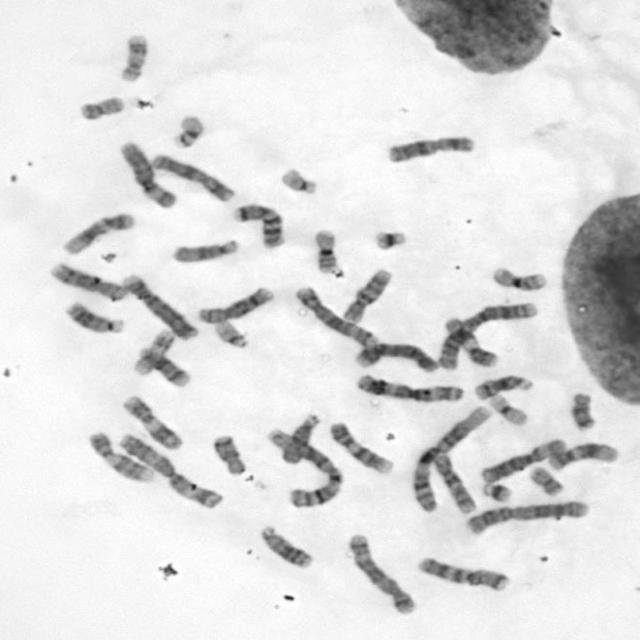A1: (406, 402, 494, 514), (262, 424, 346, 510)
A2: (435, 298, 540, 372), (461, 496, 590, 536)
A3: (112, 429, 226, 510), (351, 371, 466, 404)
B4: (118, 270, 200, 343), (350, 338, 440, 374)
B5: (344, 529, 418, 616), (292, 283, 378, 348)
C10: (337, 265, 394, 324), (430, 450, 477, 516)
C11: (118, 392, 185, 452), (441, 314, 498, 369)
C12: (58, 208, 139, 256), (545, 439, 621, 472)
C6: (117, 137, 178, 210), (476, 436, 570, 483)
C7: (413, 553, 513, 593), (230, 200, 286, 250)
C8: (193, 282, 276, 325), (45, 260, 128, 302)
C9: (84, 428, 156, 484), (326, 418, 395, 475)
D13: (256, 522, 314, 570), (62, 298, 125, 336)
D14: (134, 344, 192, 388), (470, 372, 534, 401)
D15: (277, 409, 323, 466), (168, 236, 240, 265)
E16: (487, 263, 550, 292), (310, 226, 341, 274)
E17: (130, 326, 176, 376), (115, 32, 150, 84)
E18: (209, 431, 250, 476), (566, 389, 598, 432)
F19: (485, 391, 531, 427), (170, 112, 207, 150)
F20: (75, 92, 127, 122), (526, 463, 565, 497)
G21: (370, 226, 408, 252), (477, 479, 515, 504)
G22: (276, 164, 319, 196), (211, 318, 251, 350)
X: (148, 150, 236, 203), (382, 132, 476, 165)
